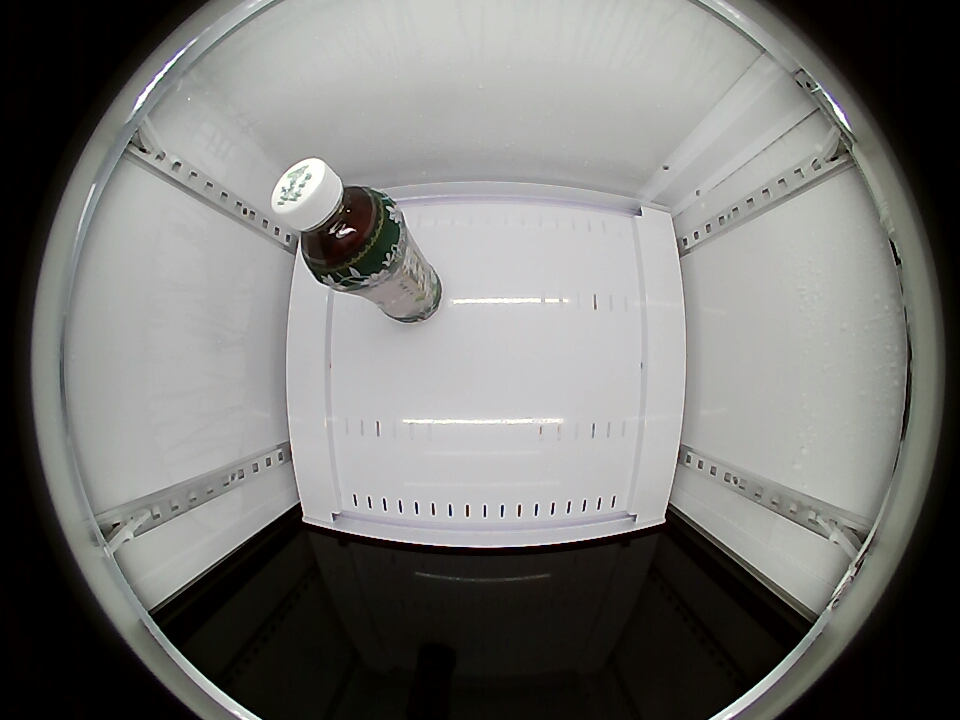moliqingcha: (271, 158, 399, 284)
